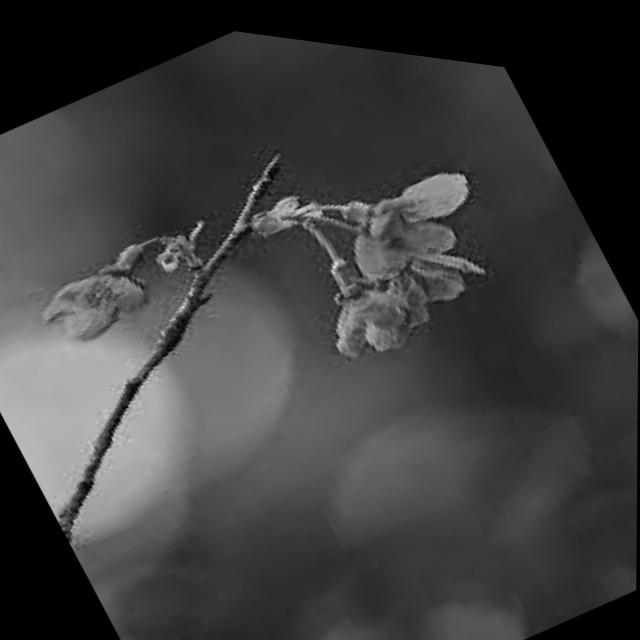Flower: (303, 196, 501, 370), (329, 116, 508, 293), (24, 233, 175, 375)
